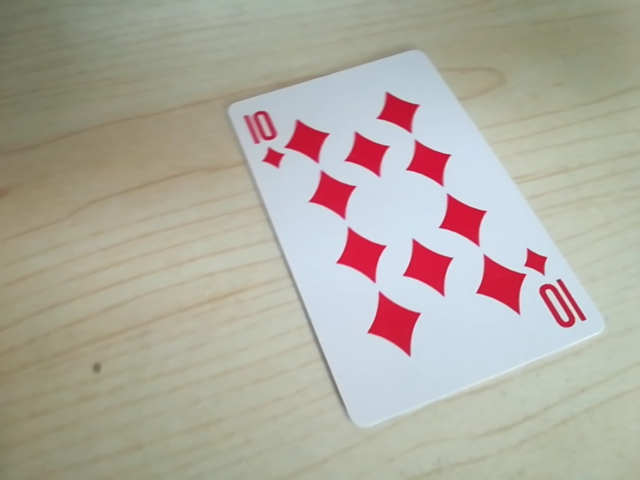fk 10: (534, 259, 586, 334), (239, 104, 288, 164)
